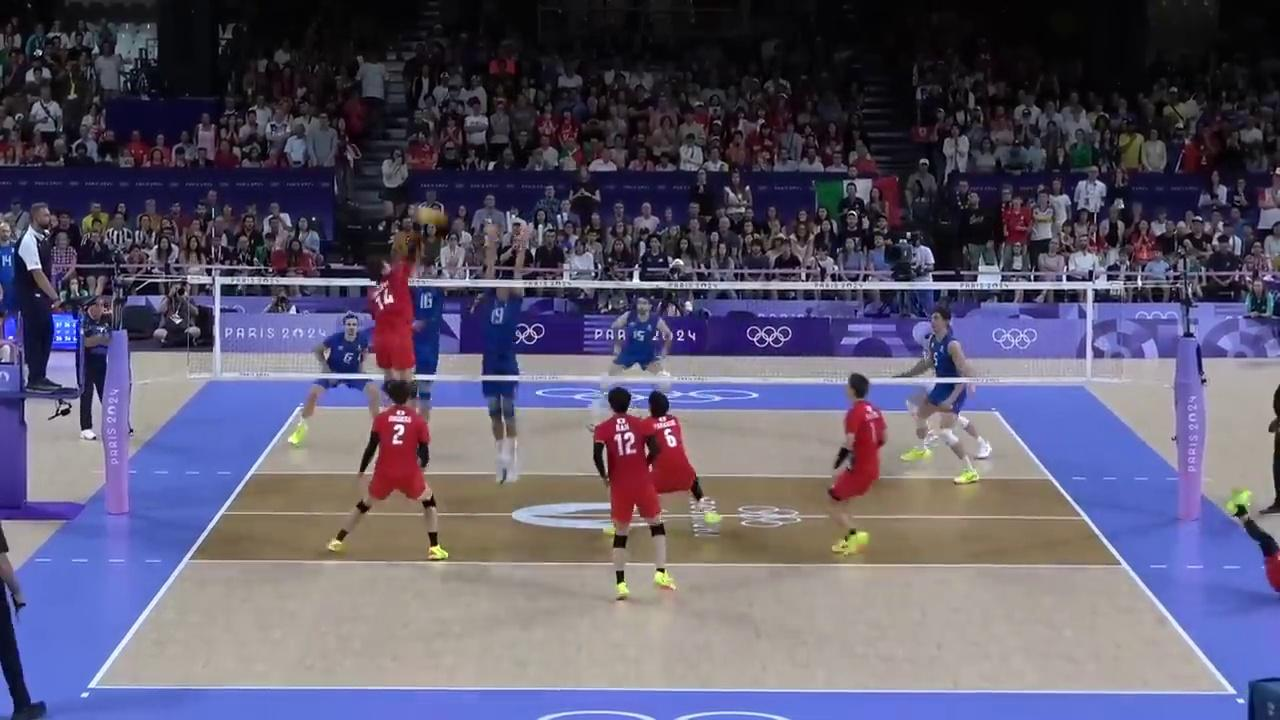ball: (415, 205, 448, 227)
